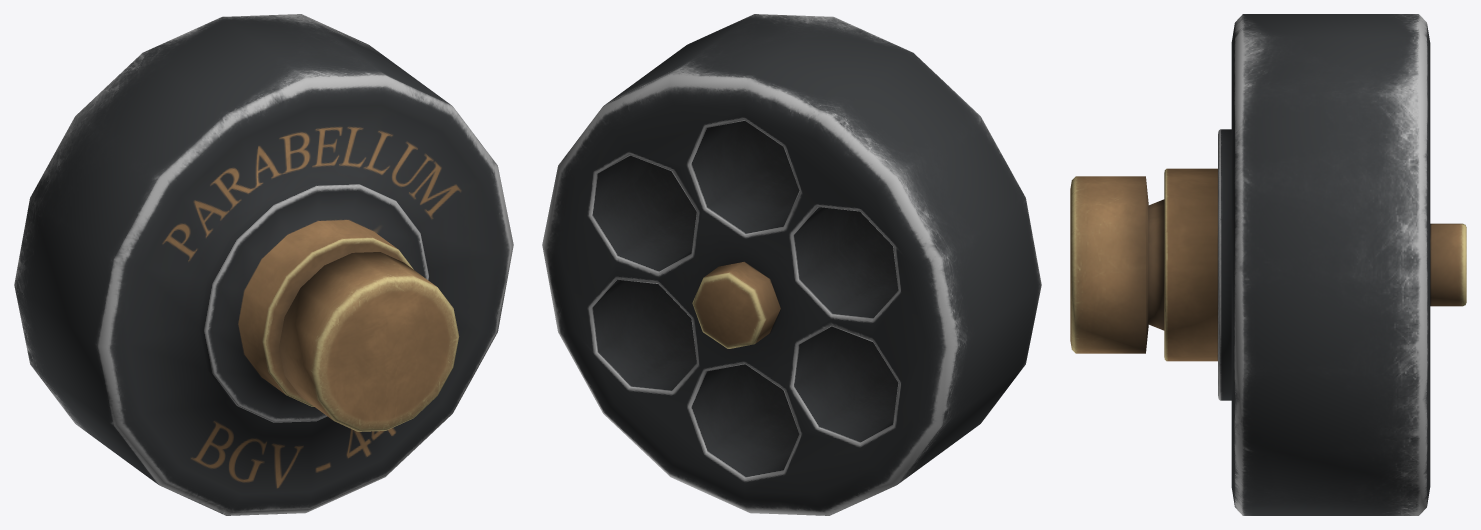
Rendered from Speed Loader.fbx.
3 views of the same model, side by side, from view 1: azimuth 30°, elevation 25°; view 2: azimuth 150°, elevation 25°; view 3: azimuth 270°, elevation 25° (orthographic). The views are drawn at different scales.
Visible parts, largest first — view 1: Base; view 2: Base, Ffront; view 3: Base, Ffront.
Boxes of the visible parts, x1,y1,x2,y2 form: Base: (14, 14, 513, 515); Base: (542, 14, 1041, 515); Ffront: (692, 261, 780, 348); Base: (1070, 14, 1430, 515); Ffront: (1430, 223, 1466, 306).
Bounding box in the file's own units: 200 × 200 × 158.
